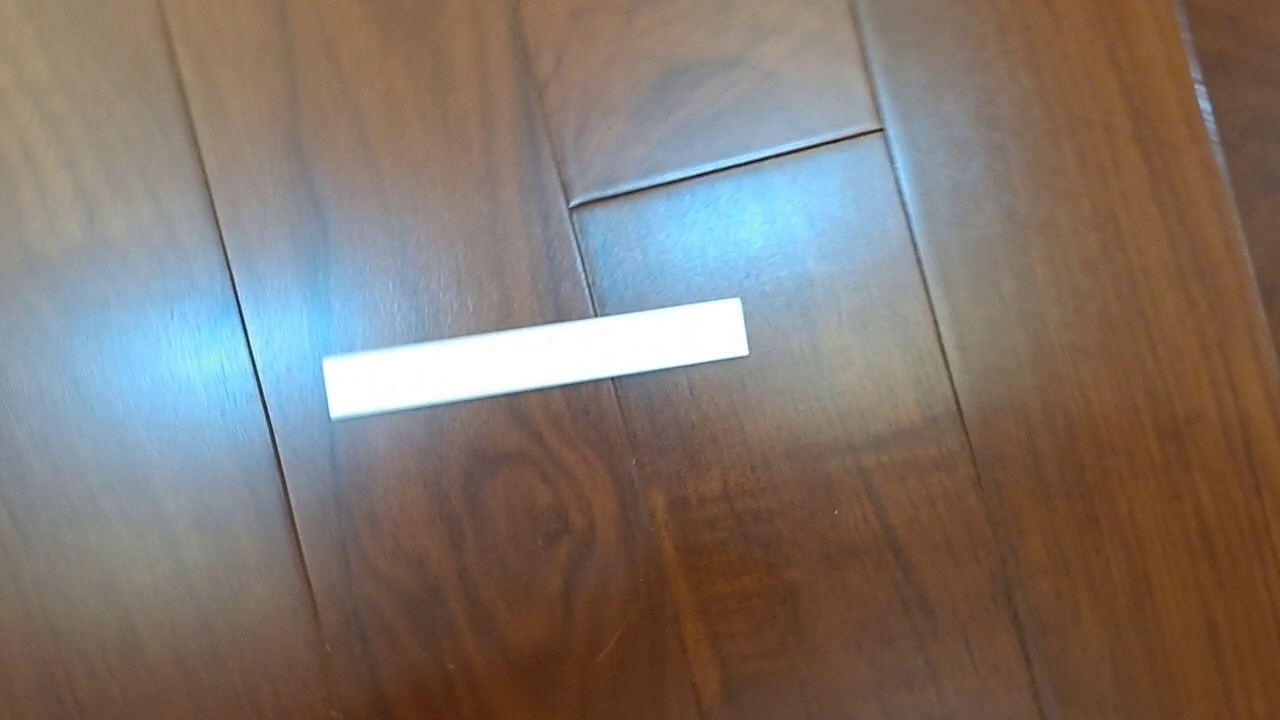ruler: (318, 296, 750, 424)
